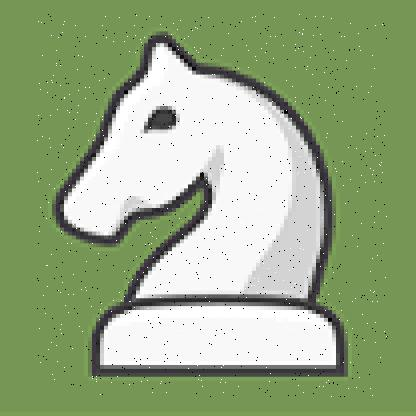White Knight: (37, 14, 389, 398)
